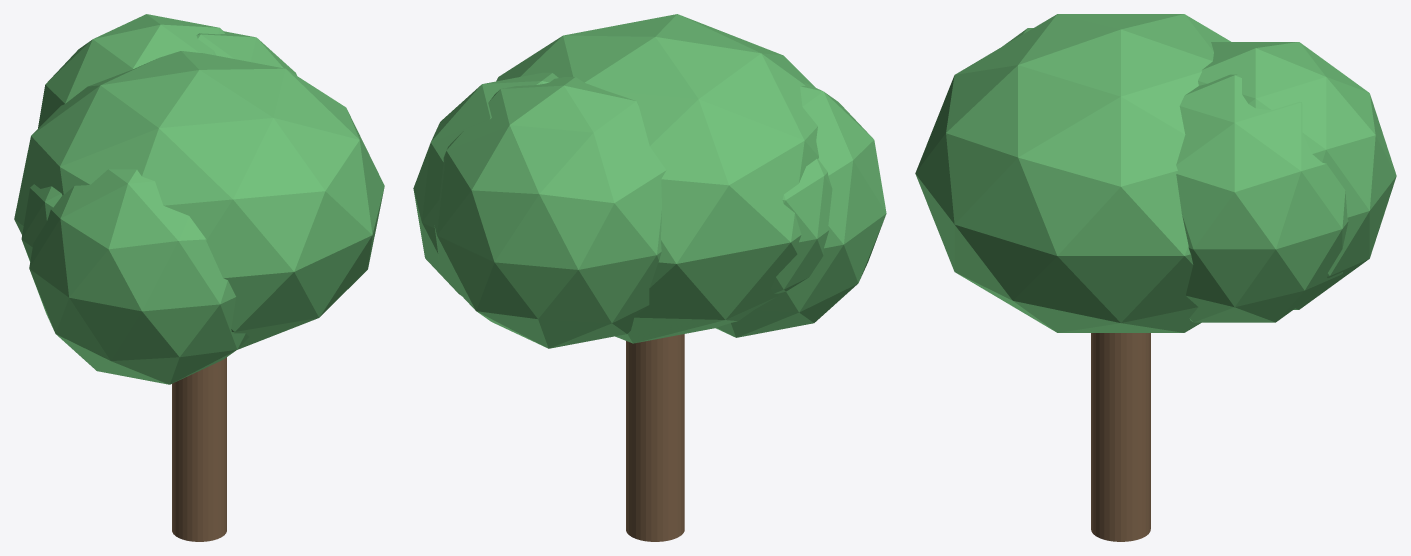
Rendered from live_tree.glb.
3 renders of one model, left to right at view 1: azimuth 30°, elevation 25°; view 2: azimuth 150°, elevation 25°; view 3: azimuth 270°, elevation 25°, orthographic. The views are drawn at different scales.
Parts seen in each view (by area): view 1: AliveFoliage, AliveTrunk; view 2: AliveFoliage, AliveTrunk; view 3: AliveFoliage, AliveTrunk.
Boxes of the visible parts, box(x1,y1,x2,y2) form: AliveFoliage: box(14, 14, 384, 384); AliveTrunk: box(172, 357, 226, 541); AliveFoliage: box(413, 14, 886, 348); AliveTrunk: box(626, 334, 684, 541); AliveFoliage: box(915, 14, 1396, 332); AliveTrunk: box(1091, 333, 1150, 541).
Size of the model in its own units: 1.1 by 1.47 by 1.29.
